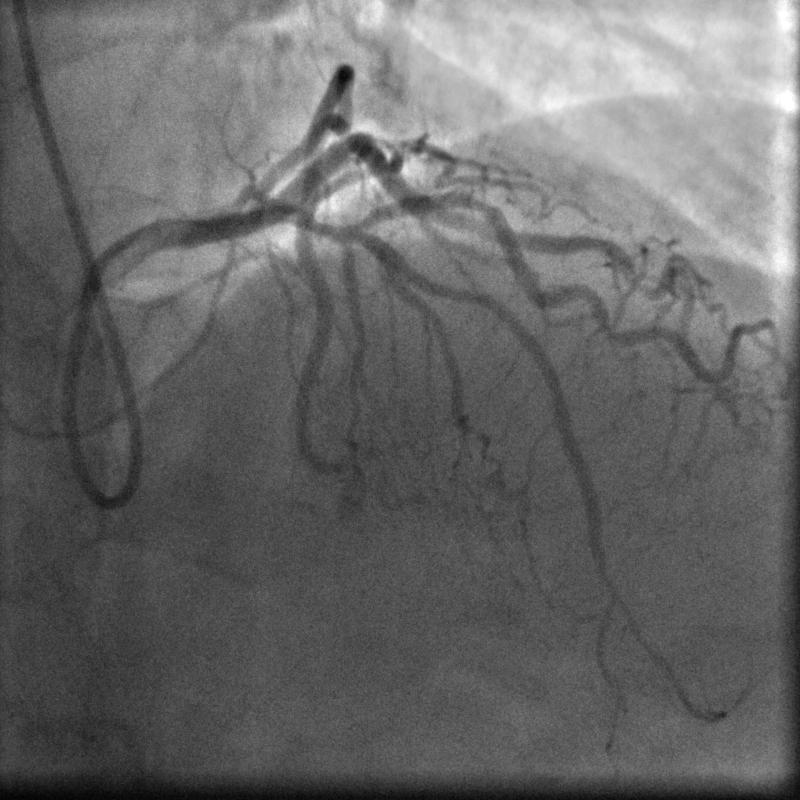Stenosis: (459, 187, 501, 227)
